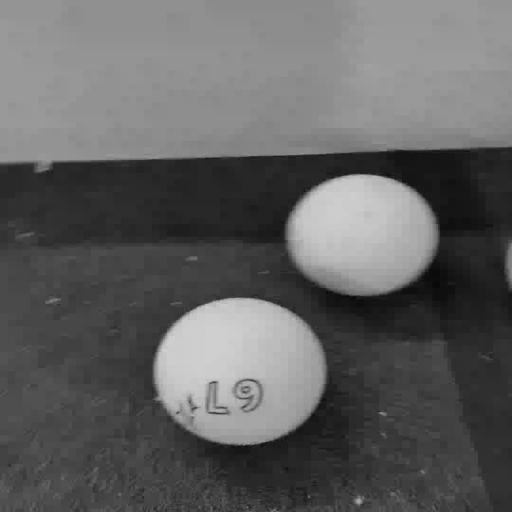fuel: (154, 298, 327, 445), (286, 174, 439, 296)
